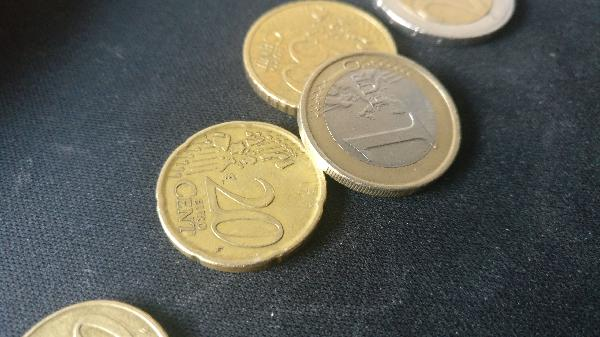Fifty Cent: (244, 3, 407, 112)
One Euro: (298, 49, 468, 199)
Ten Cent: (12, 300, 173, 337)
Twenty Cent: (154, 119, 328, 274)
Two Euro: (395, 1, 523, 48)
